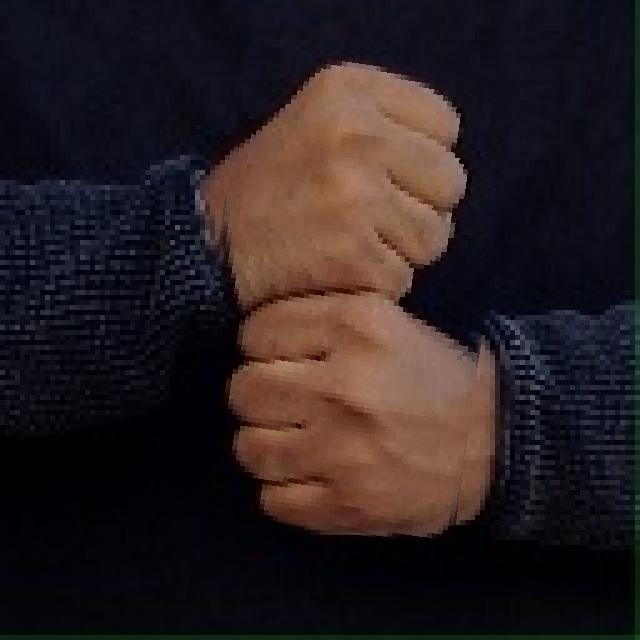G: (197, 52, 503, 540)
